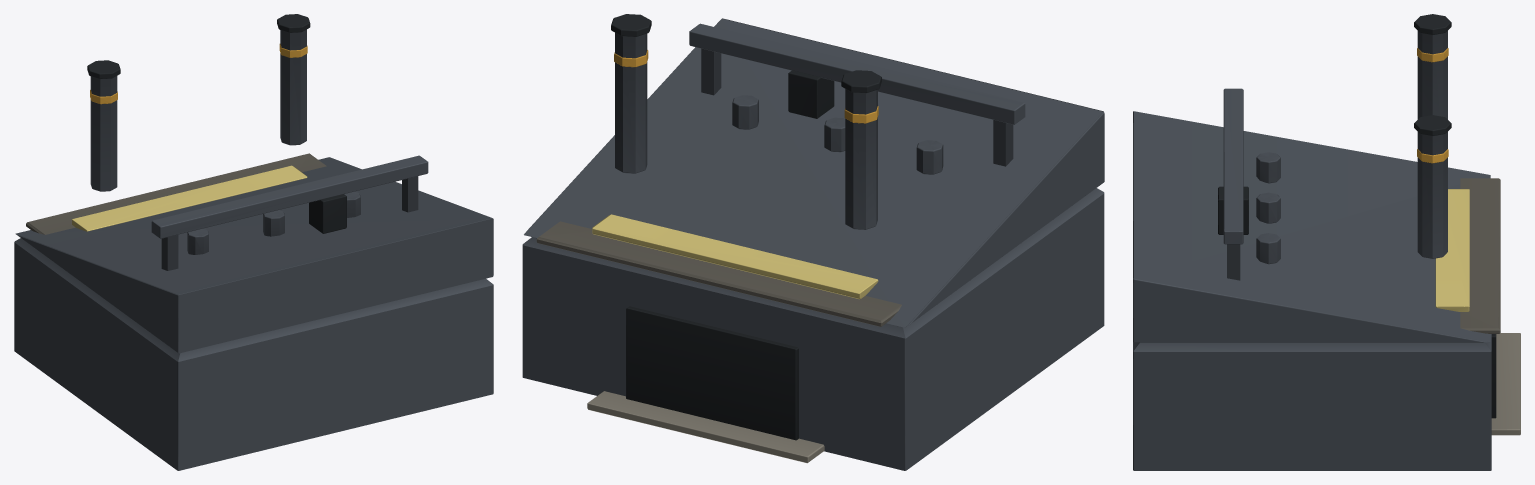
Rendered from war_factory.glb.
3 renders of one model, left to right at view 1: azimuth 30°, elevation 25°; view 2: azimuth 150°, elevation 25°; view 3: azimuth 270°, elevation 25°, orthographic. The views are drawn at different scales.
Parts seen in each view (by area): view 1: Body; view 2: Body; view 3: Body.
Part boxes in pixels (x1,y1,x2,y2): Body: (14,14,493,470); Body: (522,14,1104,470); Body: (1133,14,1520,470).
Size of the model in its own units: 9 by 7.86 by 8.76.
